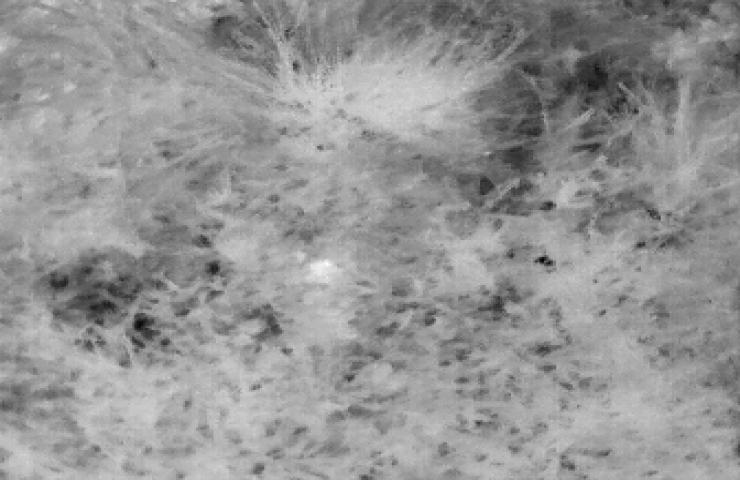landmines: (294, 241, 364, 293)
